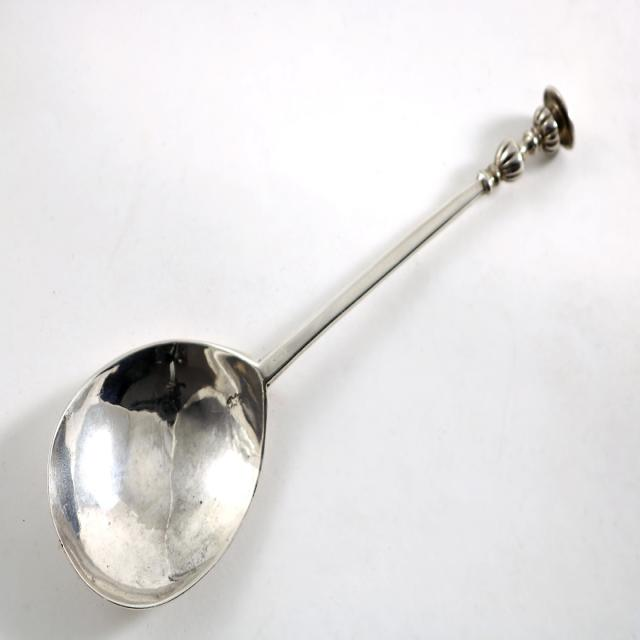spoon: (40, 81, 582, 628)
